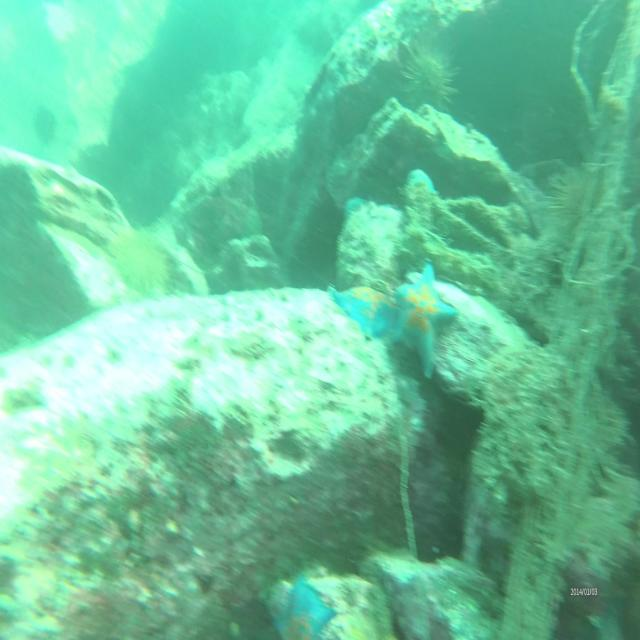echinus: (401, 38, 462, 121), (547, 160, 601, 238)
starfish: (391, 257, 458, 377), (269, 567, 337, 640), (326, 278, 401, 338), (408, 165, 441, 199)
